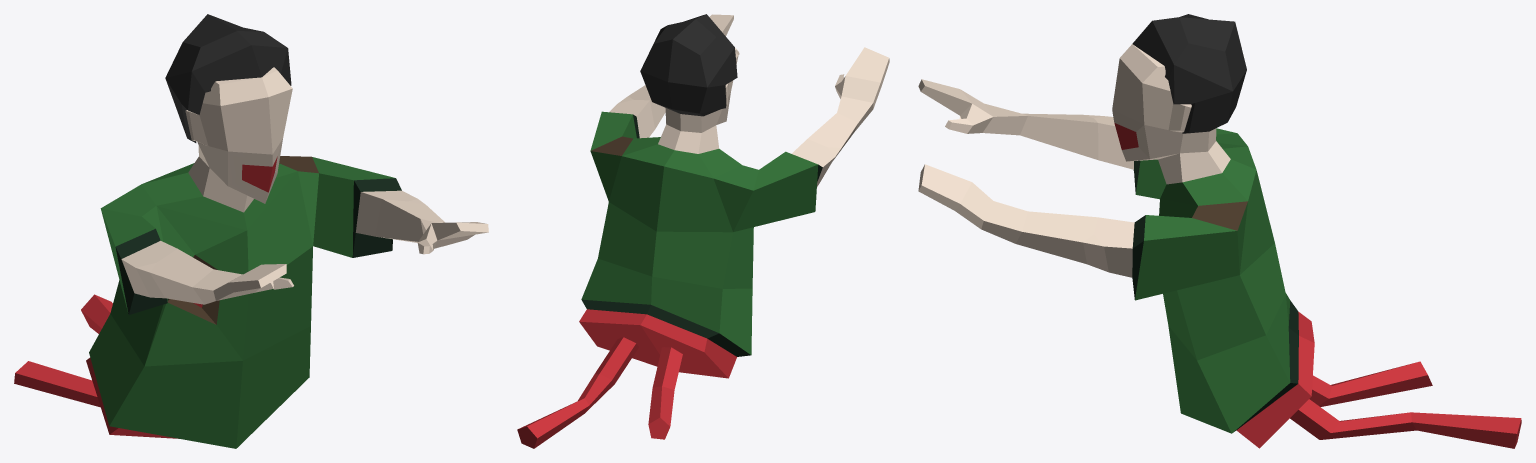
Rendered from man-zombie-half.glb.
3 views of the same model, side by side, from view 1: azimuth 30°, elevation 25°; view 2: azimuth 150°, elevation 25°; view 3: azimuth 270°, elevation 25° (orthographic). The views are drawn at different scales.
Parts seen in each view (by area): view 1: man-zombie-half; view 2: man-zombie-half; view 3: man-zombie-half.
Part boxes in pixels (x1,y1,x2,y2): man-zombie-half: (14,14,488,448); man-zombie-half: (517,14,889,448); man-zombie-half: (918,14,1521,448).
Size of the model in its own units: 0.5868 by 0.862 by 1.15.
Materials: 1 (1 with a texture image).
